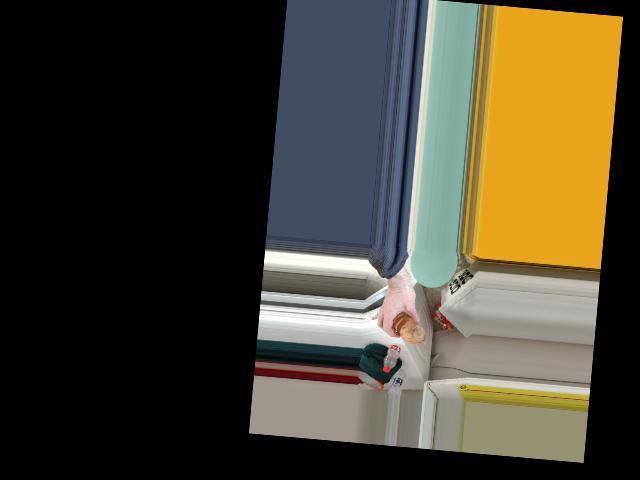sweet_potato: (393, 312, 426, 346)
